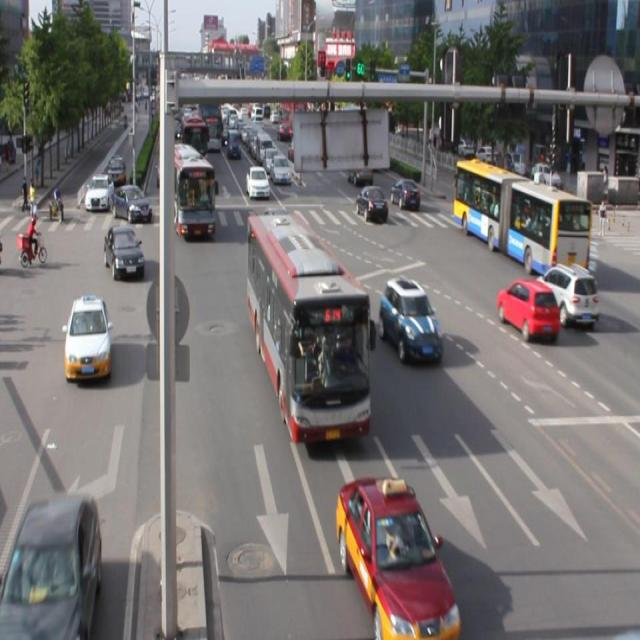car: (334, 474, 458, 640), (1, 492, 101, 640), (378, 276, 441, 364), (64, 293, 112, 381), (495, 278, 559, 342), (534, 262, 596, 326), (104, 224, 146, 282)
van: (247, 214, 370, 443), (454, 160, 590, 279)
